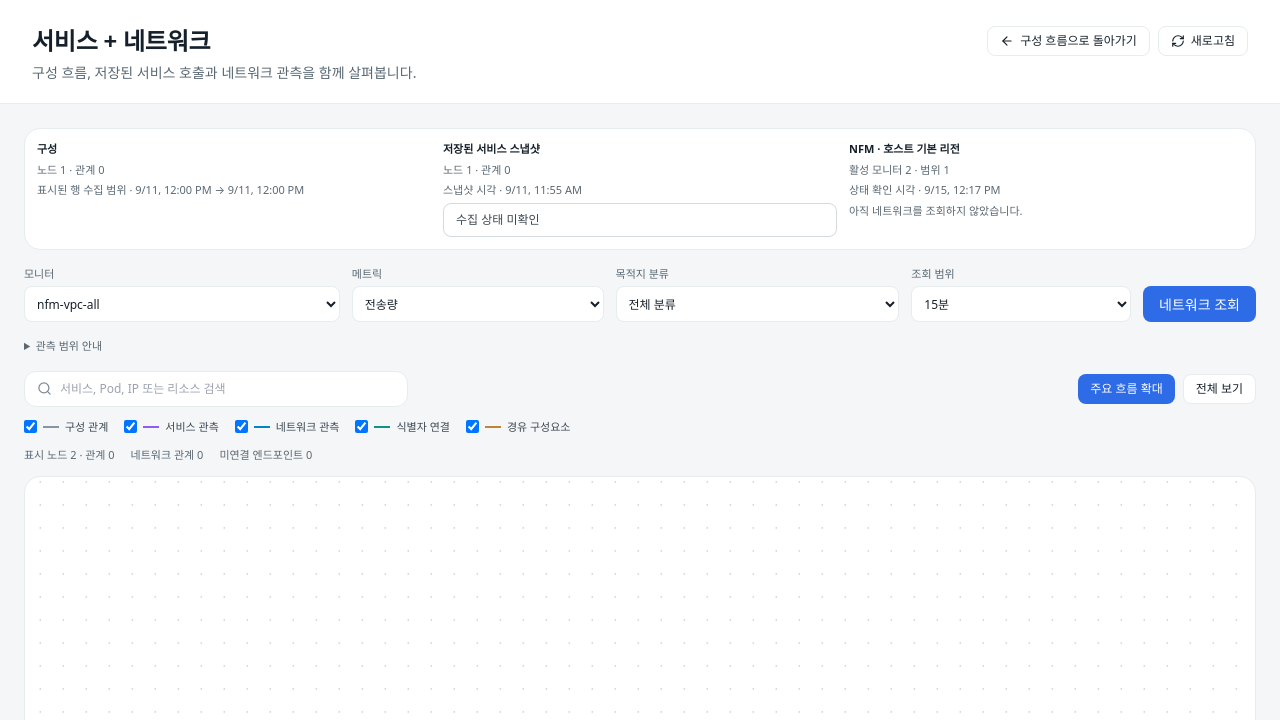
ServiceNetworkTopology › labels an empty successful query as no matching top contributors and leaves unknown windows unknown
Expected: the button "네트워크 조회" is enabled, [1143,286,1256,322]
Select "INTER_AZ" in the dropdown labelled "목적지 분류": (757, 304) [616,286,899,322]
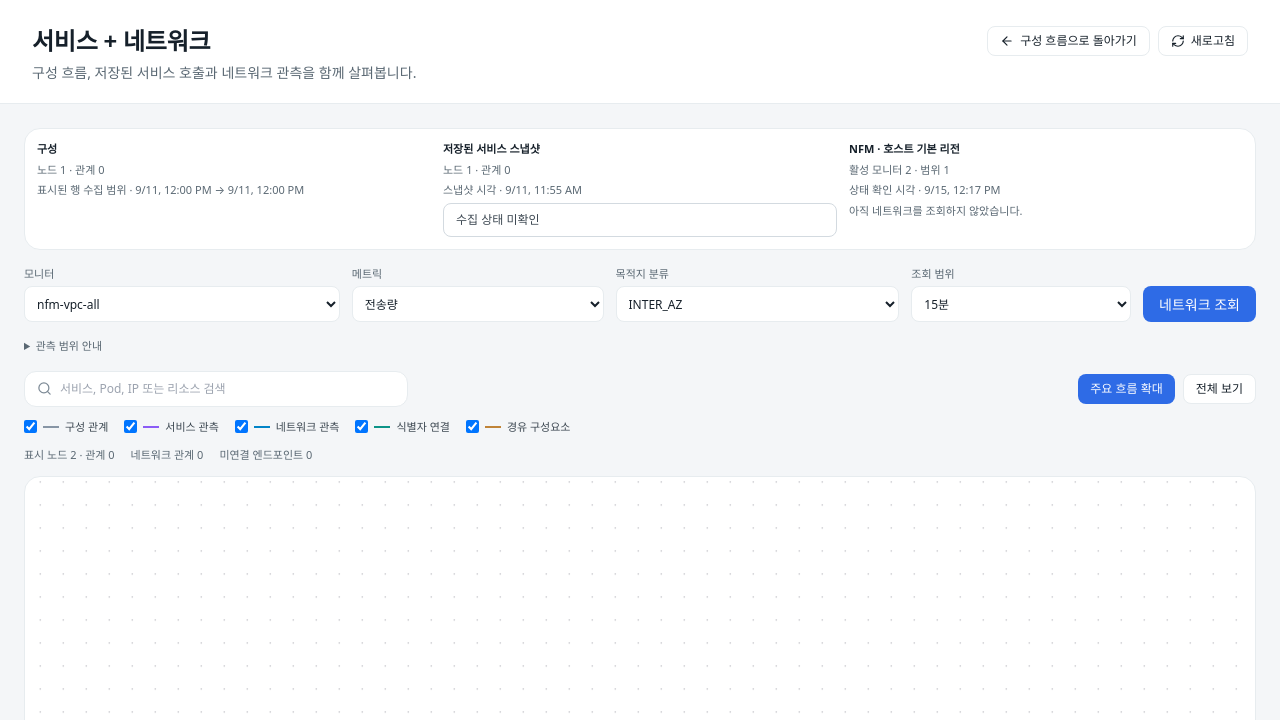
Click the button "네트워크 조회": (1200, 304) [1143,286,1256,322]
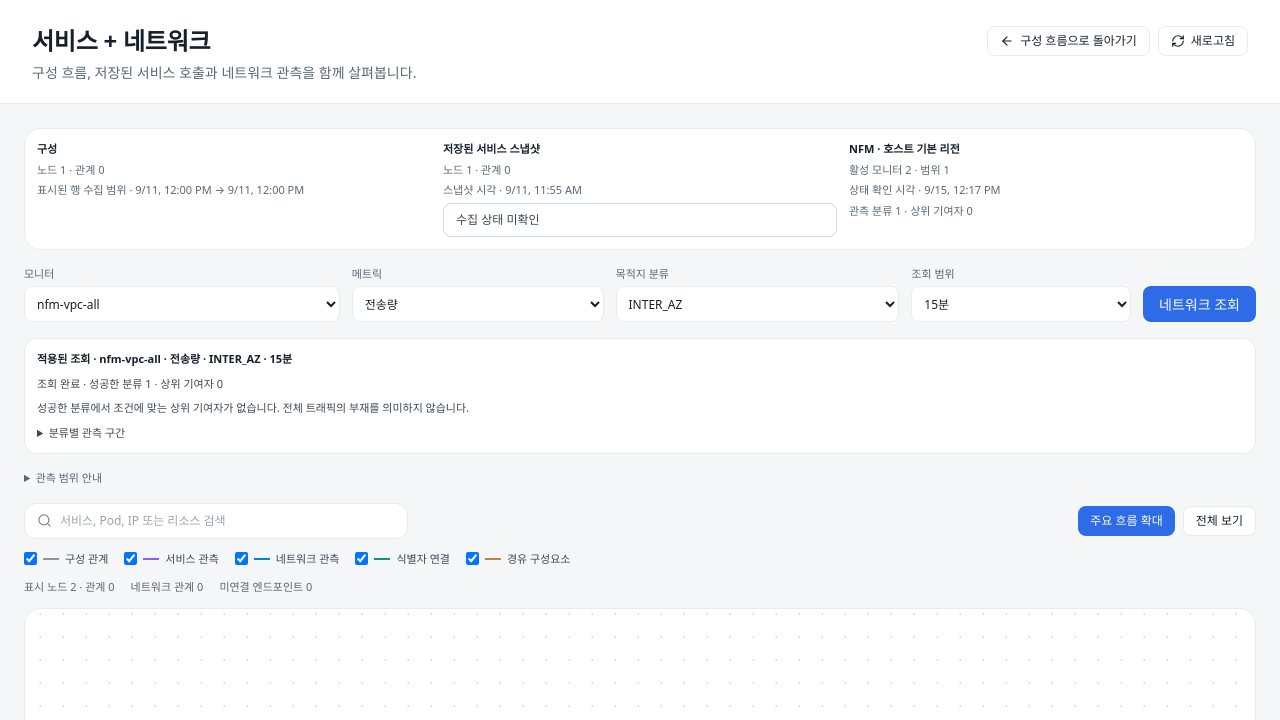
Result: the text "성공한 분류에서 조건에 맞는 상위 기여자가 없습니다. 전체 트래픽의 부재를 의미하지 않습니다." is shown at [37,400,469,415]
